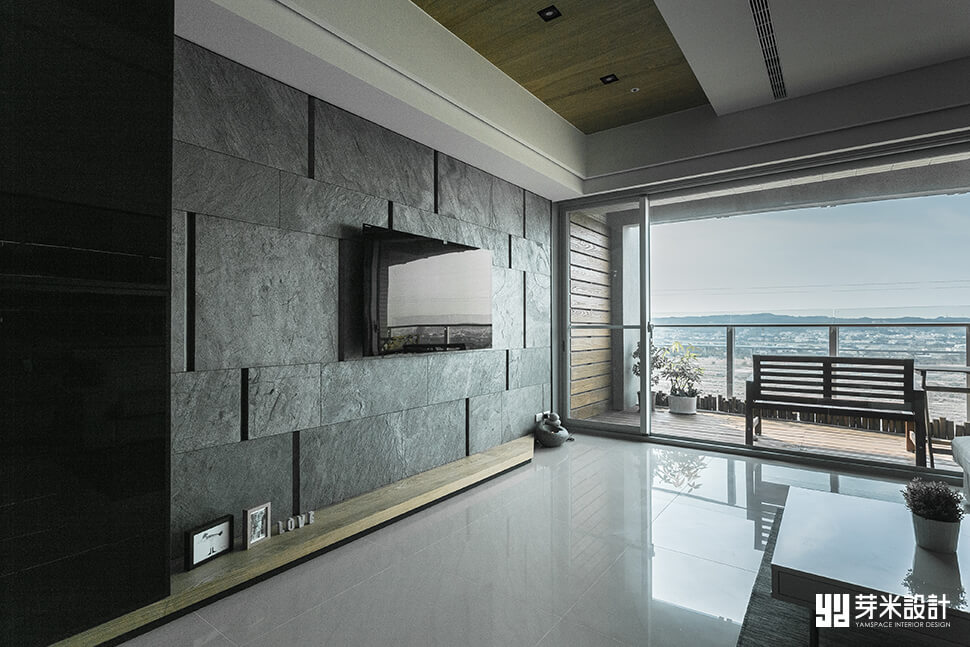table: (773, 483, 970, 647)
tv: (363, 228, 496, 352)
